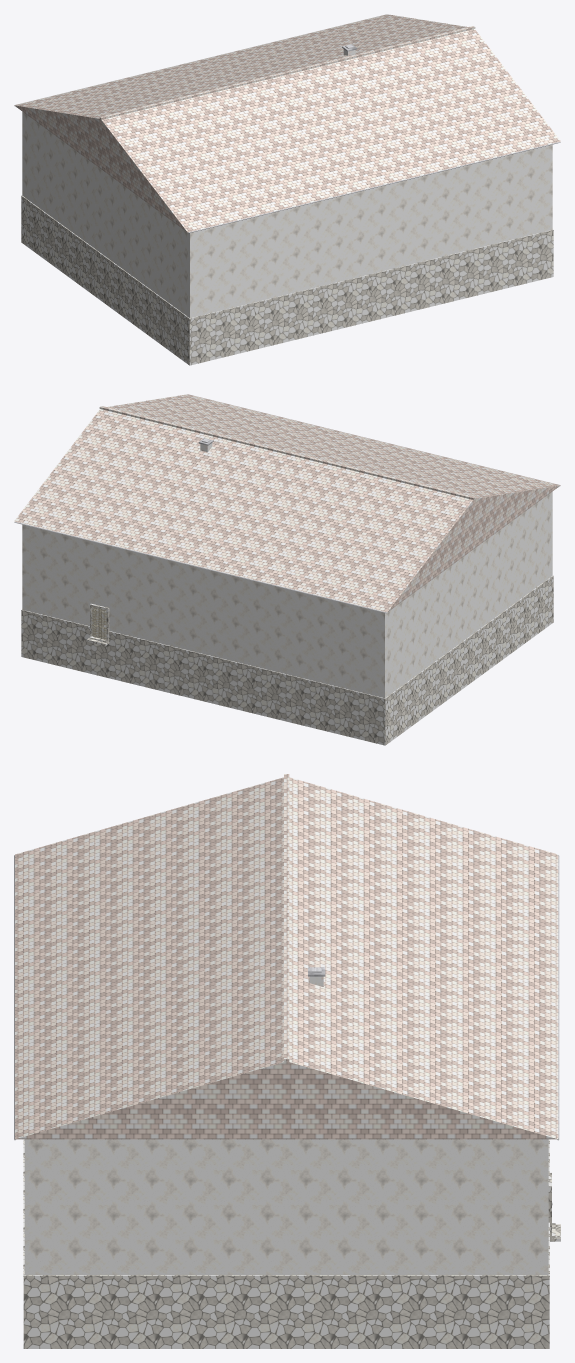
The picture shows the model from 3 angles, top to bottom: view 1: azimuth 30°, elevation 25°; view 2: azimuth 150°, elevation 25°; view 3: azimuth 270°, elevation 25°; orthographic projection. The views are drawn at different scales.
Parts seen in each view (by area): view 1: b1086637694; view 2: b1086637694; view 3: b1086637694.
Boxes of the visible parts, bbox=[...] form: b1086637694: bbox=[14, 14, 560, 365]; b1086637694: bbox=[14, 394, 560, 745]; b1086637694: bbox=[14, 774, 560, 1348].
Bounding box in the file's own units: 24.56 × 11.86 × 19.9.
Materials: 14 (14 with a texture image).
